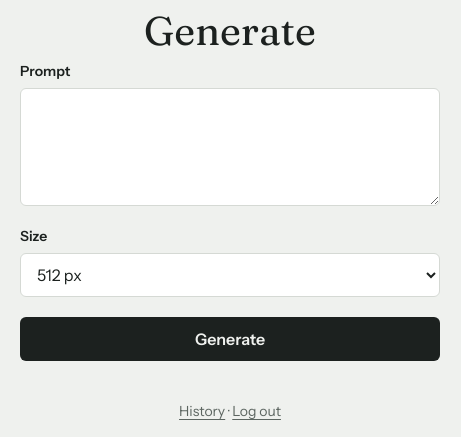
submitting › retries once with the same idempotency key after a network error
Type "a red fox in fresh snow" into the text box labelled "Prompt" at (230, 147), box [20, 88, 440, 206]
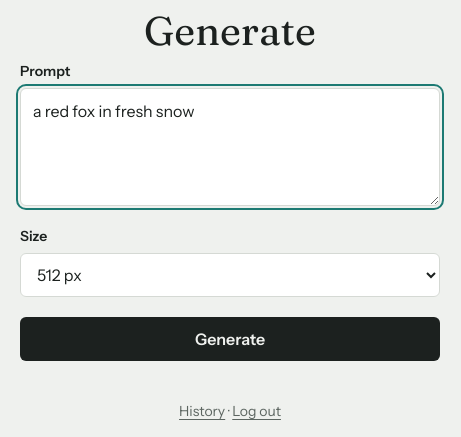
Click the button "Generate" at (230, 339), box [20, 317, 440, 361]
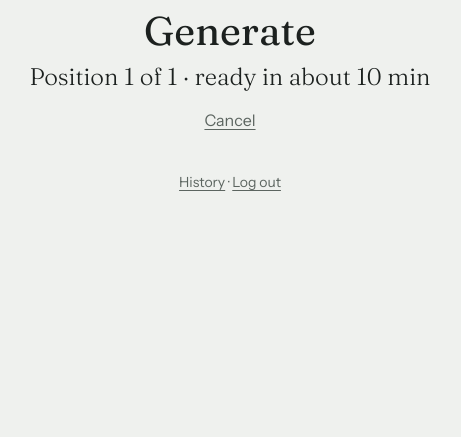
Expected: the text "Position 1 of 1 · ready in about 10 min" is shown, [30, 61, 430, 92]
